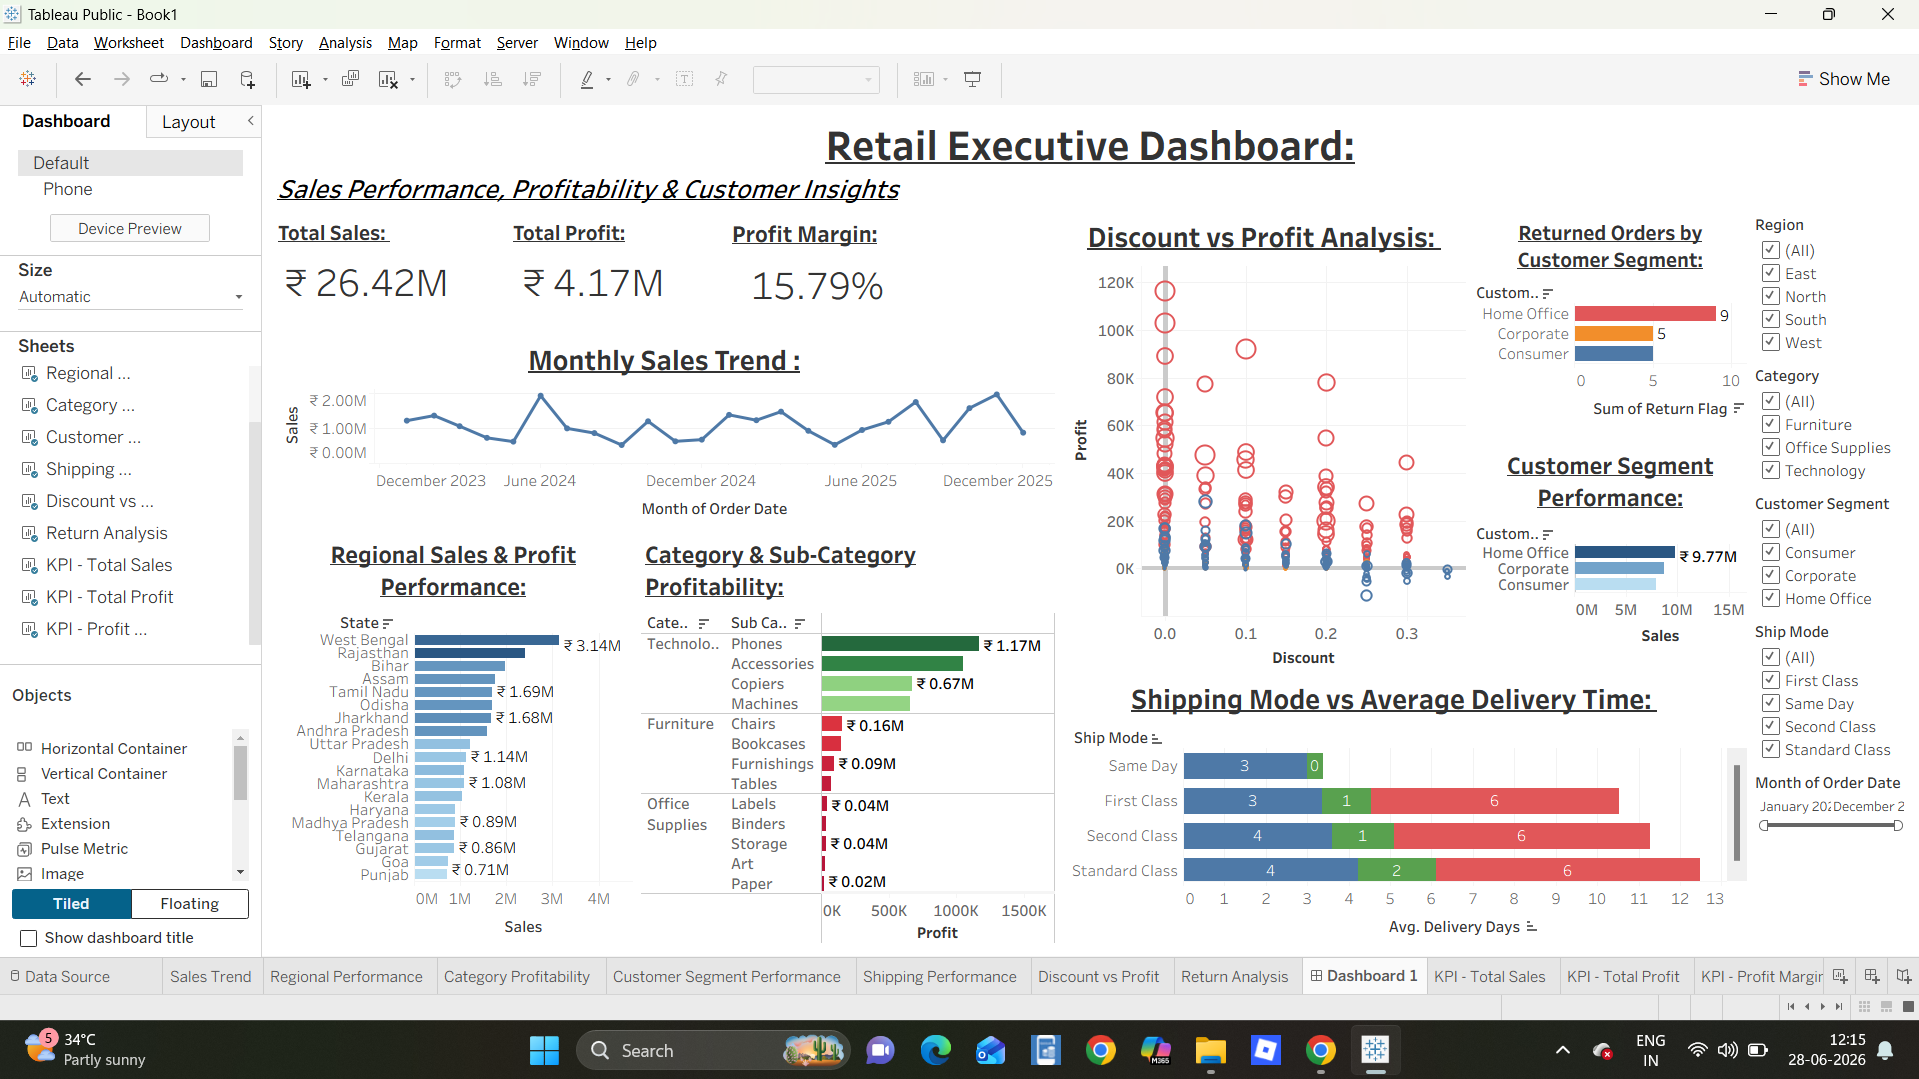

What the dashboard file says about the page in this screenshot:
{"tool":"tableau","page":{"name":"Dashboard 1","canvas":[1000,1000],"units":"permille","ordinal":0},"visuals":[{"type":"title","box":[4.8,9.4,990.3,114]},{"type":"worksheet","title":"KPI - Total Sales","mark":"Automatic","box":[4.8,123.4,141.7,144.5]},{"type":"worksheet","title":"KPI - Total Profit","mark":"Automatic","box":[146.5,123.4,132.3,144.5]},{"type":"worksheet","title":"KPI - Profit Margin","mark":"Automatic","box":[278.8,123.4,202.2,144.5]},{"type":"worksheet","title":"Discount vs Profit","mark":"Automatic","rows":["profit"],"cols":["discount"],"box":[481,123.4,248,542.9]},{"type":"worksheet","title":"Return Analysis","mark":"Automatic","rows":["customer_segment"],"cols":["return_flag"],"box":[729,123.4,169.6,271.4]},{"type":"filter","title":"Regional Performance","param":"[federated.0yggp4m1rm4ceb18mac3l0upx1c3].[none:region:nk]","box":[898.6,123.4,96.6,177.4]},{"type":"worksheet","title":"Sales Trend","mark":"Line","rows":["sales"],"cols":["order_date"],"box":[4.8,267.9,476.2,231.5]},{"type":"filter","title":"Category Profitability","param":"[federated.0yggp4m1rm4ceb18mac3l0upx1c3].[none:category:nk]","box":[898.6,300.8,96.6,150.4]},{"type":"worksheet","title":"Customer Segment Performance","mark":"Automatic","rows":["customer_segment"],"cols":["sales"],"box":[729,394.8,169.6,271.4]},{"type":"filter","title":"Customer Segment Performance","param":"[federated.0yggp4m1rm4ceb18mac3l0upx1c3].[none:customer_segment:nk]","box":[898.6,451.2,96.6,150.4]},{"type":"worksheet","title":"Regional Performance","mark":"Automatic","rows":["state"],"cols":["sales"],"box":[4.8,499.4,221.5,491.2]},{"type":"worksheet","title":"Category Profitability","mark":"Automatic","rows":["category","sub_category"],"cols":["profit"],"box":[226.3,499.4,254.7,491.2]},{"type":"filter","title":"Shipping Performance","param":"[federated.0yggp4m1rm4ceb18mac3l0upx1c3].[none:ship_mode:nk]","box":[898.6,601.6,96.6,177.4]},{"type":"worksheet","title":"Shipping Performance","mark":"Automatic","rows":["ship_mode"],"cols":["delivery_days"],"box":[481,666.3,417.6,324.3]},{"type":"filter","title":"Sales Trend","param":"[federated.0yggp4m1rm4ceb18mac3l0upx1c3].[tmn:order_date:qk]","box":[898.6,779.1,96.6,85.8]}]}

Visuals, with their boxes on the dashboard's canvas, which has no fixed pixel size, in thousandths of its width and height (x1, y1, x2, y2). These are canvas units, not pixel positions in the 1919x1079 screenshot, which may show the page scaled, cropped or inside an application window:
title: 5,9,995,123
"KPI - Total Sales" worksheet: 5,123,146,268
"KPI - Total Profit" worksheet: 146,123,279,268
"KPI - Profit Margin" worksheet: 279,123,481,268
"Discount vs Profit" worksheet: 481,123,729,666
"Return Analysis" worksheet: 729,123,899,395
"Regional Performance" filter: 899,123,995,301
"Sales Trend" worksheet (Line marks): 5,268,481,499
"Category Profitability" filter: 899,301,995,451
"Customer Segment Performance" worksheet: 729,395,899,666
"Customer Segment Performance" filter: 899,451,995,602
"Regional Performance" worksheet: 5,499,226,991
"Category Profitability" worksheet: 226,499,481,991
"Shipping Performance" filter: 899,602,995,779
"Shipping Performance" worksheet: 481,666,899,991
"Sales Trend" filter: 899,779,995,865
